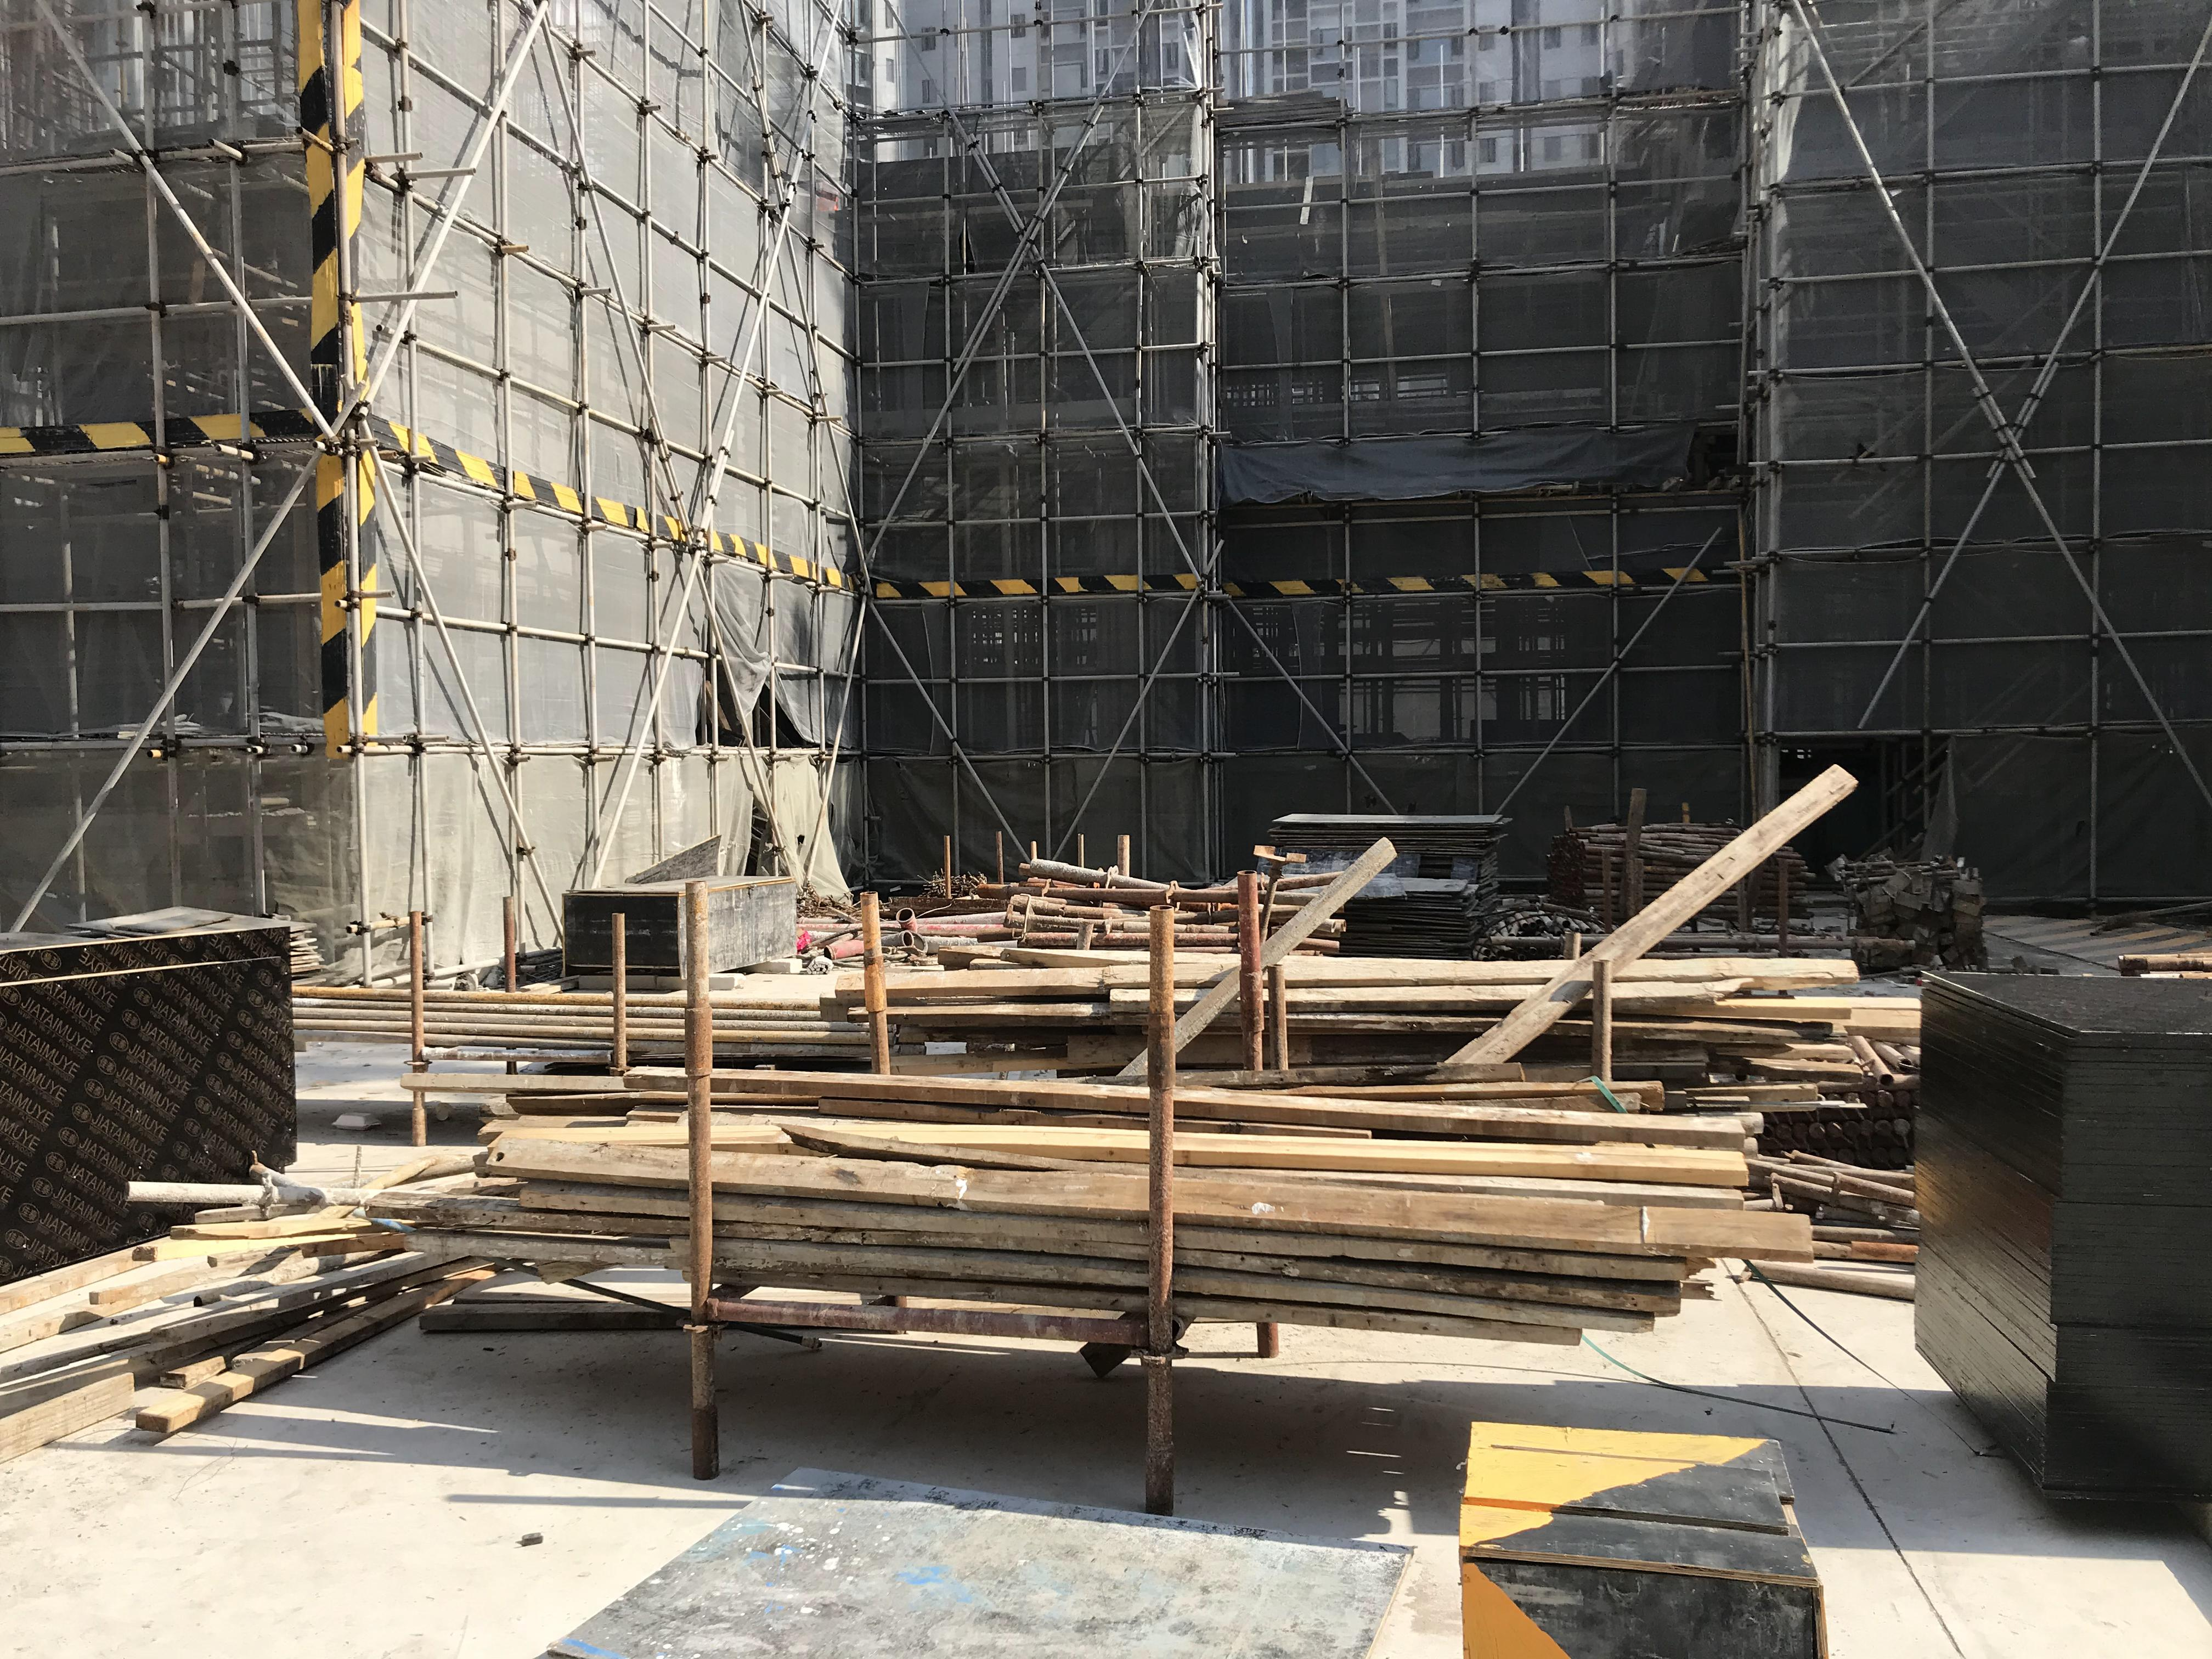board: (1348, 877, 1480, 957), (1277, 814, 1510, 856)
scaffold: (1010, 870, 1334, 960)
wood: (449, 1080, 1770, 1344)
